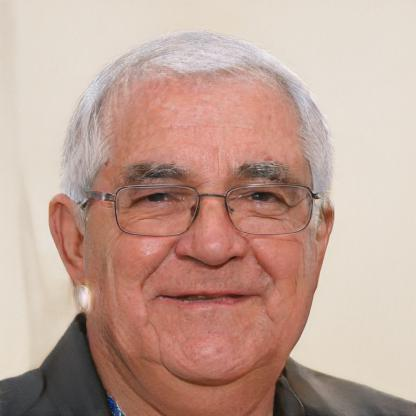glasses: (99, 178, 318, 240)
